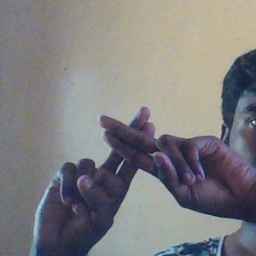F: (60, 94, 204, 210)
